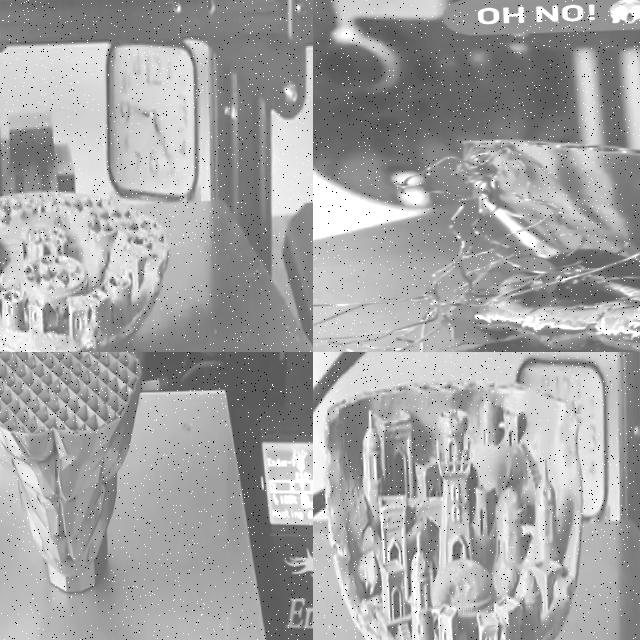spaghetti: (313, 132, 640, 352)
